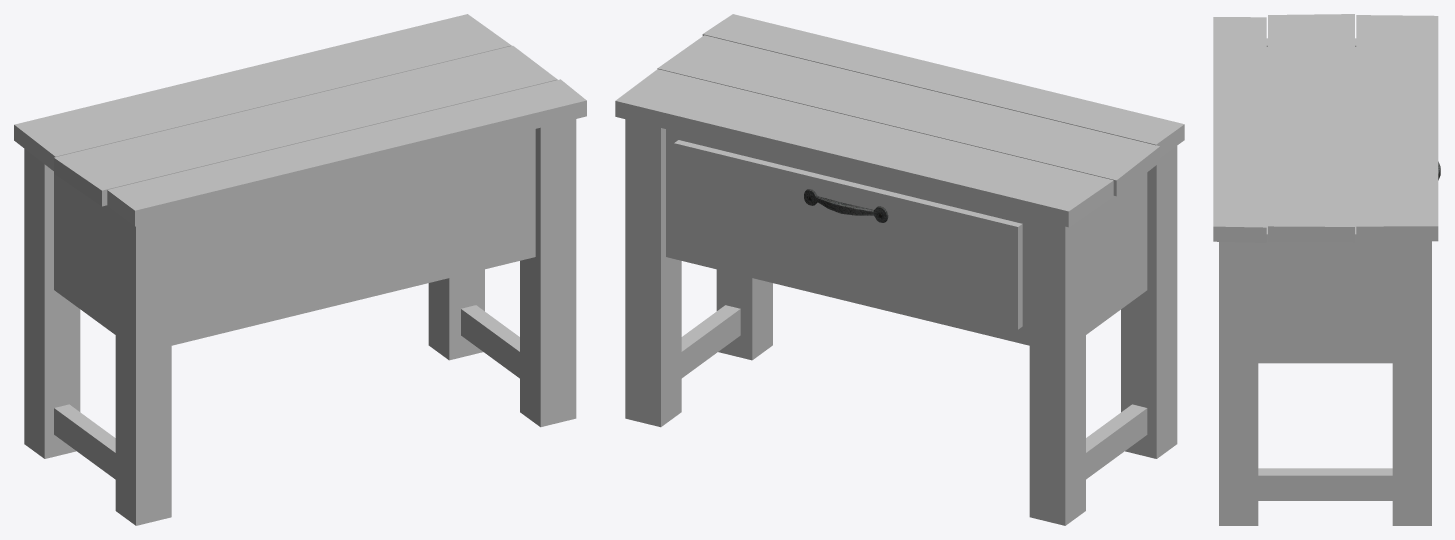
The model's file is mw_wardrobe_05.FBX.
3 views of the same model, side by side, from view 1: azimuth 30°, elevation 25°; view 2: azimuth 150°, elevation 25°; view 3: azimuth 270°, elevation 25° (orthographic). The views are drawn at different scales.
Parts seen in each view (by area): view 1: mw_wardrobe_05; view 2: mw_wardrobe_05; view 3: mw_wardrobe_05.
Boxes of the visible parts, <box> form: mw_wardrobe_05: <box>14,14,586,525</box>; mw_wardrobe_05: <box>615,14,1184,525</box>; mw_wardrobe_05: <box>1213,14,1440,525</box>.
Size of the model in its own units: 154 by 102 by 69.43.
